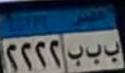2: (17, 38, 36, 73), (49, 36, 61, 73), (37, 38, 49, 71), (8, 39, 18, 71)
ب: (105, 34, 120, 67), (69, 42, 85, 70), (88, 41, 102, 70)
